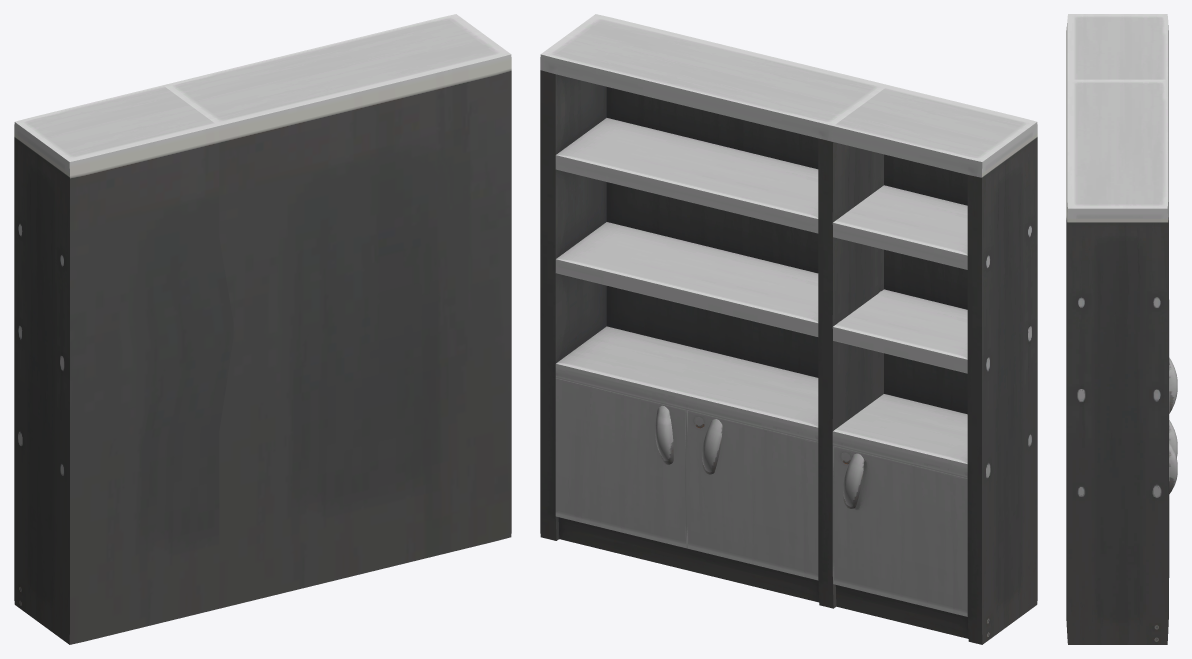
The model's file is OfficeCabinet01__2.fbx.
3 views of the same model, side by side, from view 1: azimuth 30°, elevation 25°; view 2: azimuth 150°, elevation 25°; view 3: azimuth 270°, elevation 25° (orthographic). The views are drawn at different scales.
Visible parts, largest first — view 1: OfficeCabinet01A 1; view 2: OfficeCabinet01A 1; view 3: OfficeCabinet01A 1.
Part boxes in pixels (<box>): OfficeCabinet01A 1: <box>14,14,511,644</box>; OfficeCabinet01A 1: <box>540,14,1037,644</box>; OfficeCabinet01A 1: <box>1066,14,1177,644</box>.
Size of the model in its own units: 2.43 by 2.54 by 0.5892.
Materials: 1 (1 with a texture image).
